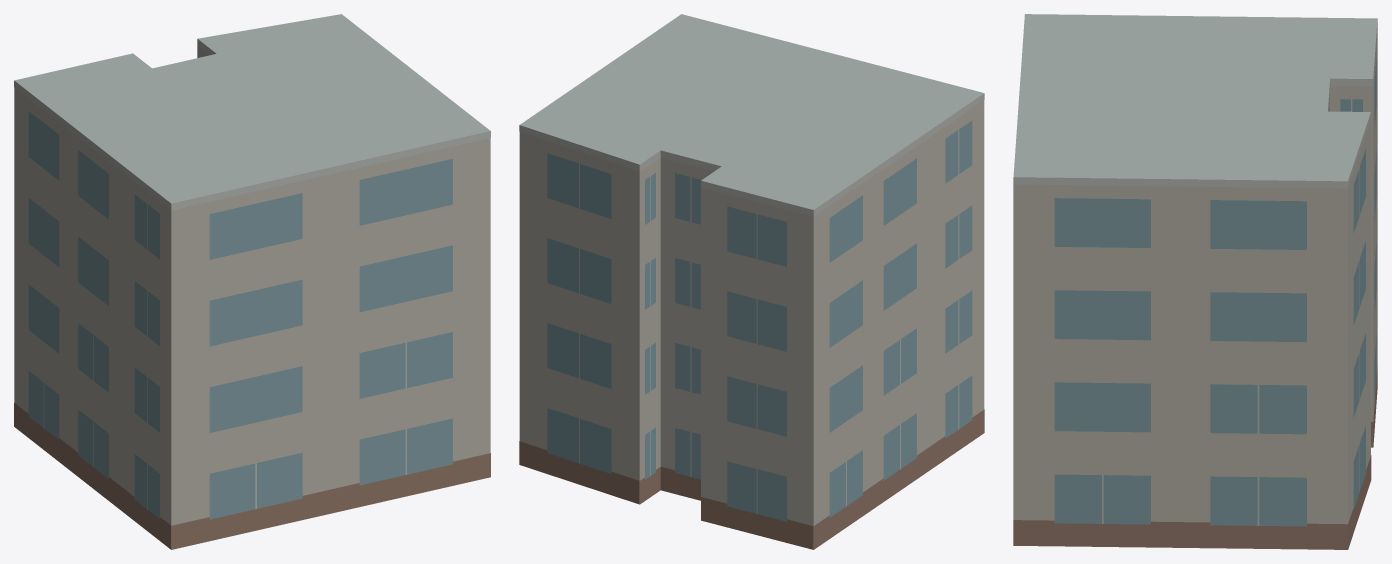
The model's file is survey-upis-32982233.glb.
3 renders of one model, left to right at view 1: azimuth 30°, elevation 25°; view 2: azimuth 150°, elevation 25°; view 3: azimuth 270°, elevation 25°, orthographic. The views are drawn at different scales.
Parts seen in each view (by area): view 1: survey-upis-32982233.tmp; view 2: survey-upis-32982233.tmp; view 3: survey-upis-32982233.tmp.
Part boxes in pixels (x1,y1,x2,y2): survey-upis-32982233.tmp: (14, 14, 490, 549); survey-upis-32982233.tmp: (519, 14, 984, 549); survey-upis-32982233.tmp: (1013, 14, 1377, 549).
Bounding box in the file's own units: 12.08 × 12.4 × 11.11.
